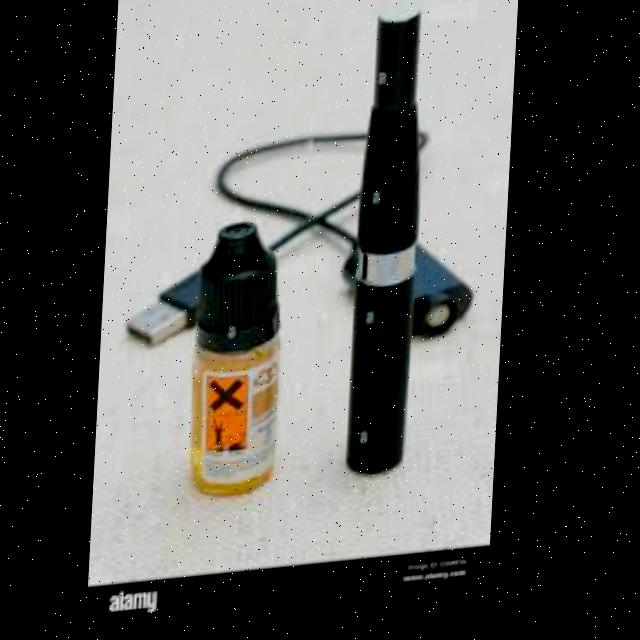vape: (348, 12, 429, 486)
